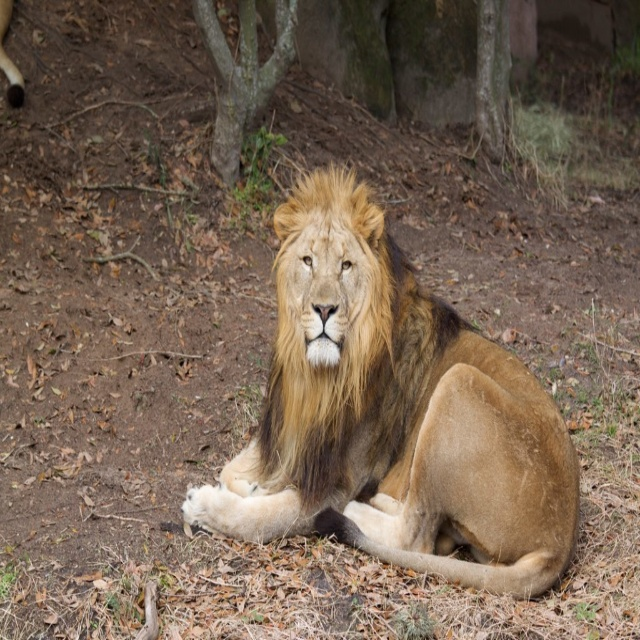Lion: (179, 152, 580, 600)
